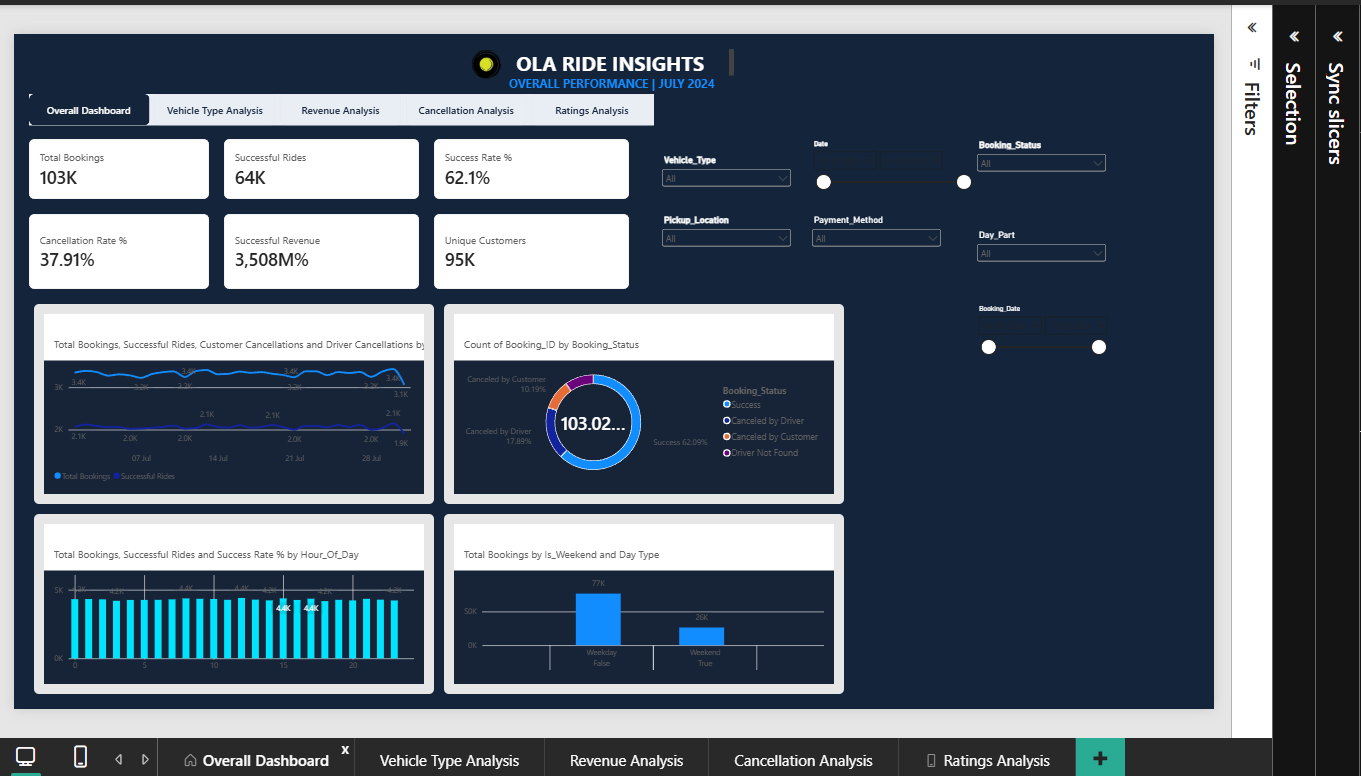

The dashboard page shown, as its layout file describes it:
{"tool":"powerbi","page":{"name":"Overall Dashboard","canvas":[1920,1080],"ordinal":0},"visuals":[{"type":"lineChart","title":"Daily Ride Volume & Successful Rides","fields":{"Category":["Calendar.Date"],"Y":["ola_ride_insights ola_rides.Total Bookings","ola_ride_insights ola_rides.Successful Rides"]},"box":[32,432,640,320],"z":0},{"type":"donutChart","title":"Booking Status Distribution","fields":{"Category":["ola_ride_insights ola_rides.Booking_Status"],"Y":["Count(ola_ride_insights ola_rides.Booking_ID)"]},"box":[688,432,640,320],"z":1000},{"type":"clusteredColumnChart","title":"Hourly Ride Demand","fields":{"Category":["ola_ride_insights ola_rides.Hour_Of_Day"],"Y":["ola_ride_insights ola_rides.Total Bookings"]},"box":[32,768,640,288],"z":2000},{"type":"clusteredColumnChart","title":"Weekday vs Weekend Bookings","fields":{"Category":["ola_ride_insights ola_rides.Is_Weekend","ola_ride_insights ola_rides.Day Type"],"Y":["ola_ride_insights ola_rides.Total Bookings"]},"box":[688,768,640,288],"z":3000},{"type":"slicer","fields":{"Values":["Calendar.Date"]},"box":[1272,168,264,96],"z":4000},{"type":"slicer","fields":{"Values":["ola_ride_insights ola_rides.Vehicle_Type"]},"box":[1032,192,216,72],"z":5000},{"type":"slicer","fields":{"Values":["ola_ride_insights ola_rides.Booking_Status"]},"box":[1536,168,216,72],"z":6000},{"type":"cardVisual","fields":{"Data":["ola_ride_insights ola_rides.Total Bookings"]},"box":[24,168,288,96],"z":7000},{"type":"cardVisual","fields":{"Data":["ola_ride_insights ola_rides.Successful Rides"]},"box":[336,168,312,96],"z":8000},{"type":"cardVisual","fields":{"Data":["ola_ride_insights ola_rides.Success Rate %"]},"box":[672,168,312,96],"z":9000},{"type":"cardVisual","fields":{"Data":["ola_ride_insights ola_rides.Cancellation Rate %"]},"box":[24,288,288,120],"z":10000},{"type":"cardVisual","fields":{"Data":["ola_ride_insights ola_rides.Successful Revenue"]},"box":[336,288,312,120],"z":11000},{"type":"cardVisual","fields":{"Data":["ola_ride_insights ola_rides.Unique Customers"]},"box":[672,288,312,120],"z":12000},{"type":"image","box":[624,0,264,96],"z":13000},{"type":"textbox","box":[720,24,432,72],"z":14000},{"type":"slicer","fields":{"Values":["ola_ride_insights ola_rides.Pickup_Location"]},"box":[1032,288,216,72],"z":14001},{"type":"slicer","fields":{"Values":["ola_ride_insights ola_rides.Payment_Method"]},"box":[1272,288,216,72],"z":14002},{"type":"slicer","fields":{"Values":["ola_ride_insights ola_rides.Day_Part"]},"box":[1536,312,216,72],"z":14003},{"type":"slicer","fields":{"Values":["ola_ride_insights ola_rides.Booking_Date"]},"box":[1536,432,216,96],"z":14004},{"type":"pageNavigator","box":[24,96,1000,50],"z":14005}]}

Visuals, with their boxes on the page's 1920x1080 design canvas (x1, y1, x2, y2). These are canvas units, not pixel positions in the 1361x776 screenshot, which may show the page scaled, cropped or inside an application window:
"Daily Ride Volume & Successful Rides" lineChart: Rect(32, 432, 672, 752)
"Booking Status Distribution" donutChart: Rect(688, 432, 1328, 752)
"Hourly Ride Demand" clusteredColumnChart: Rect(32, 768, 672, 1056)
"Weekday vs Weekend Bookings" clusteredColumnChart: Rect(688, 768, 1328, 1056)
slicer - Calendar.Date: Rect(1272, 168, 1536, 264)
slicer - ola_ride_insights ola_rides.Vehicle_Type: Rect(1032, 192, 1248, 264)
slicer - ola_ride_insights ola_rides.Booking_Status: Rect(1536, 168, 1752, 240)
cardVisual - ola_ride_insights ola_rides.Total Bookings: Rect(24, 168, 312, 264)
cardVisual - ola_ride_insights ola_rides.Successful Rides: Rect(336, 168, 648, 264)
cardVisual - ola_ride_insights ola_rides.Success Rate %: Rect(672, 168, 984, 264)
cardVisual - ola_ride_insights ola_rides.Cancellation Rate %: Rect(24, 288, 312, 408)
cardVisual - ola_ride_insights ola_rides.Successful Revenue: Rect(336, 288, 648, 408)
cardVisual - ola_ride_insights ola_rides.Unique Customers: Rect(672, 288, 984, 408)
image: Rect(624, 0, 888, 96)
textbox: Rect(720, 24, 1152, 96)
slicer - ola_ride_insights ola_rides.Pickup_Location: Rect(1032, 288, 1248, 360)
slicer - ola_ride_insights ola_rides.Payment_Method: Rect(1272, 288, 1488, 360)
slicer - ola_ride_insights ola_rides.Day_Part: Rect(1536, 312, 1752, 384)
slicer - ola_ride_insights ola_rides.Booking_Date: Rect(1536, 432, 1752, 528)
pageNavigator: Rect(24, 96, 1024, 146)
